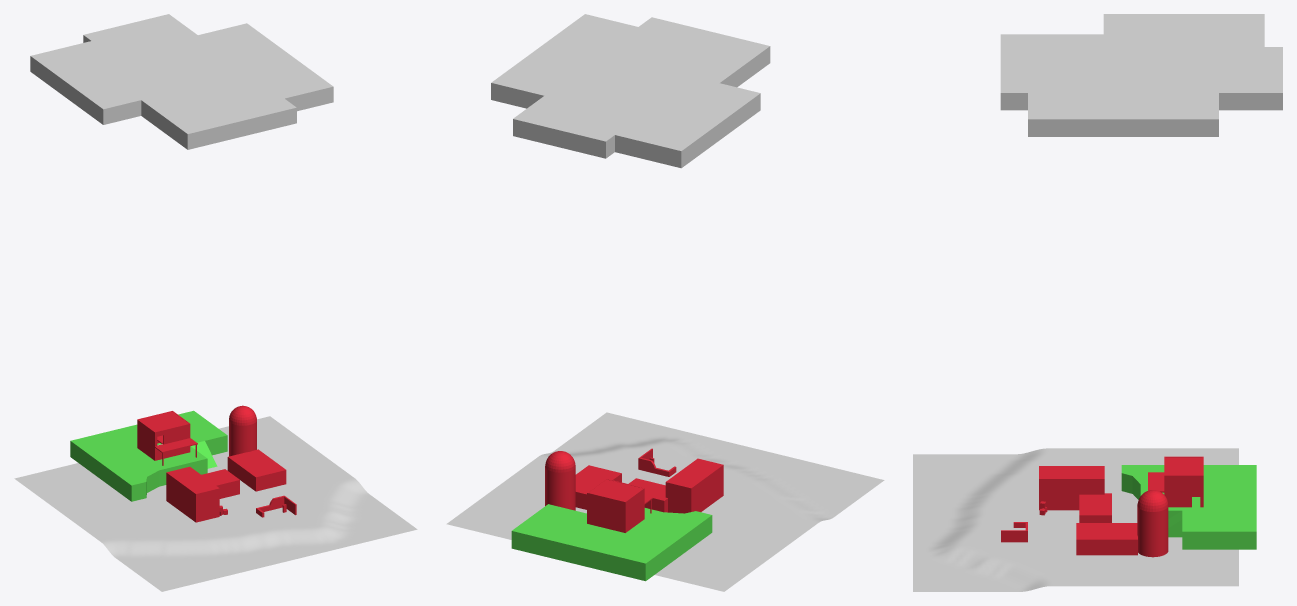
Rendered from coastMap.glb.
3 views of the same model, side by side, from view 1: azimuth 30°, elevation 25°; view 2: azimuth 150°, elevation 25°; view 3: azimuth 270°, elevation 25° (orthographic). The views are drawn at different scales.
Parts seen in each view (by area): view 1: Plane.001, Ground, Cube.015, Cube.002, Cube.005, Cylinder, Cube.004, Cube, Cube.001, Cube.009, Cube.003; view 2: Ground, Plane.001, Cube.015, Cube.005, Cylinder, Cube.004, Cube.002, Cube.003, Cube, Cube.001, Cube.009; view 3: Plane.001, Ground, Cube.015, Cube.002, Cylinder, Cube.005, Cube.001, Cube.004, Cube.009, Cube, Cube.003.
Boxes of the visible parts, x1=… form: Plane.001: x1=14, y1=416, x2=417, y2=591; Ground: x1=30, y1=14, x2=333, y2=149; Cube.015: x1=70, y1=410, x2=227, y2=501; Cube.002: x1=227, y1=449, x2=286, y2=491; Cube.005: x1=166, y1=466, x2=219, y2=508; Cylinder: x1=229, y1=405, x2=256, y2=456; Cube.004: x1=137, y1=411, x2=190, y2=446; Cube: x1=166, y1=487, x2=219, y2=522; Cube.001: x1=201, y1=469, x2=239, y2=498; Cube.009: x1=139, y1=411, x2=188, y2=431; Cube.003: x1=137, y1=434, x2=190, y2=460; Ground: x1=491, y1=14, x2=770, y2=168; Plane.001: x1=446, y1=412, x2=884, y2=591; Cube.015: x1=511, y1=504, x2=712, y2=581; Cube.005: x1=665, y1=458, x2=723, y2=503; Cylinder: x1=545, y1=451, x2=575, y2=510; Cube.004: x1=587, y1=478, x2=644, y2=517; Cube.002: x1=575, y1=465, x2=621, y2=509; Cube.003: x1=587, y1=504, x2=644, y2=532; Cube: x1=668, y1=480, x2=723, y2=513; Cube.001: x1=628, y1=478, x2=667, y2=512; Cube.009: x1=589, y1=479, x2=642, y2=501; Plane.001: x1=913, y1=448, x2=1238, y2=591; Ground: x1=1000, y1=14, x2=1282, y2=136; Cube.015: x1=1121, y1=465, x2=1256, y2=549; Cube.002: x1=1076, y1=523, x2=1137, y2=555; Cylinder: x1=1137, y1=490, x2=1168, y2=557; Cube.005: x1=1039, y1=466, x2=1104, y2=494; Cube.001: x1=1079, y1=493, x2=1111, y2=522; Cube.004: x1=1164, y1=456, x2=1203, y2=491; Cube.009: x1=1165, y1=457, x2=1202, y2=475; Cube: x1=1039, y1=494, x2=1079, y2=510; Cube.003: x1=1164, y1=491, x2=1203, y2=507.
Size of what is drawn, in the model's own units: 65.73 by 101 by 74.59.
